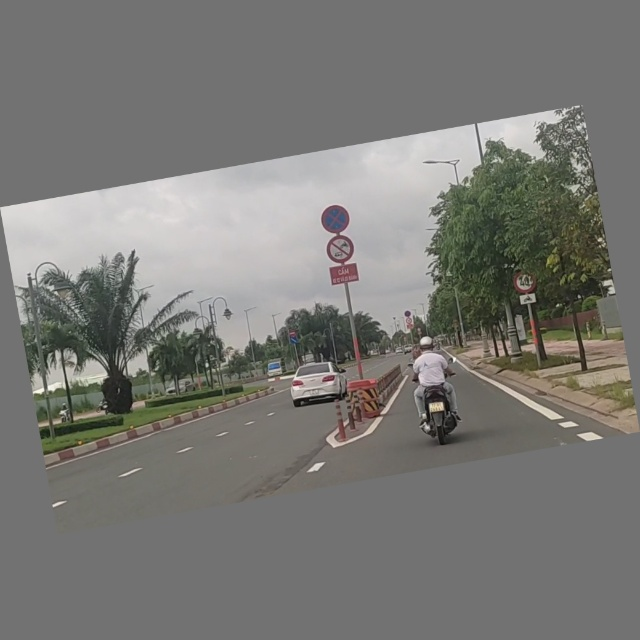P.111: (323, 232, 358, 265)
P.127*40: (510, 270, 538, 296)
P.130: (318, 202, 353, 236)
S.505a*Xe may: (515, 292, 538, 310)
